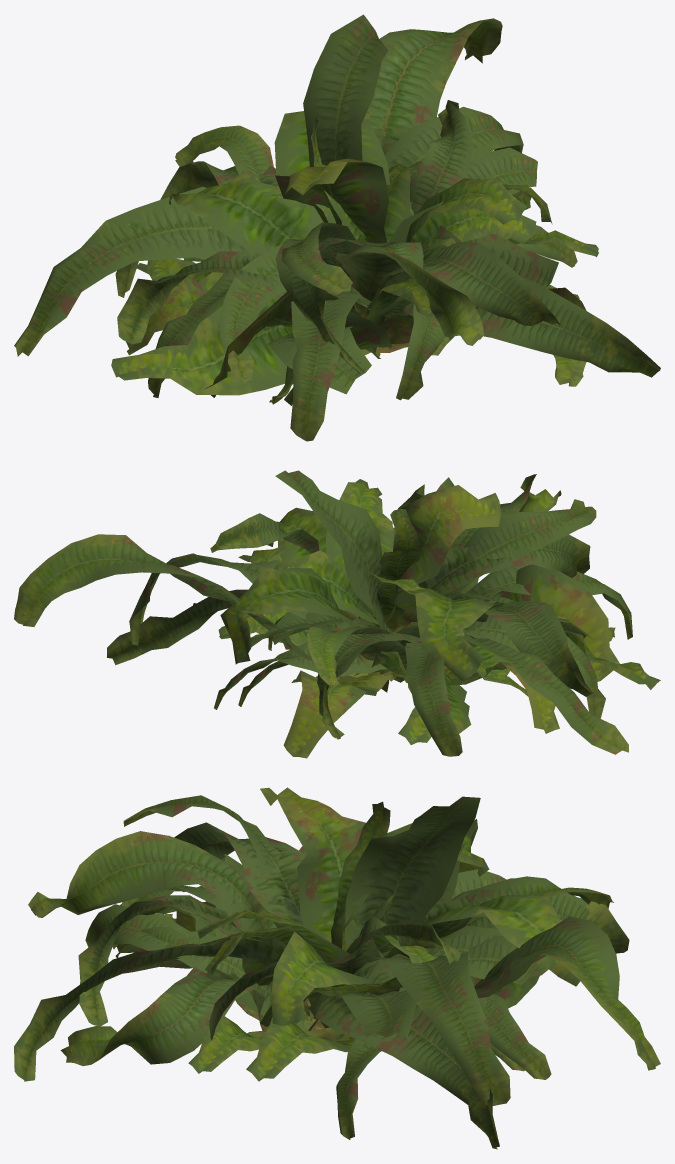
File: fern_02.glb
The picture shows the model from 3 angles, top to bottom: view 1: azimuth 30°, elevation 25°; view 2: azimuth 150°, elevation 25°; view 3: azimuth 270°, elevation 25°; orthographic projection. The views are drawn at different scales.
Visible parts, largest first — view 1: fern_02_b, fern_02_c, fern_02_d, fern_02_a; view 2: fern_02_b, fern_02_c, fern_02_a, fern_02_d; view 3: fern_02_b, fern_02_c, fern_02_a, fern_02_d.
Boxes of the visible parts, x1,y1,x2,y2 form: fern_02_b: (14,14,660,441); fern_02_c: (111,116,586,405); fern_02_d: (136,238,579,404); fern_02_a: (198,100,558,355); fern_02_b: (14,470,632,758); fern_02_c: (107,477,660,756); fern_02_a: (210,513,528,709); fern_02_d: (267,554,615,744); fern_02_b: (14,787,660,1139); fern_02_c: (60,795,613,1149); fern_02_a: (115,893,551,1079); fern_02_d: (127,901,407,1073).
Bounding box in the file's own units: 0.9897 × 0.4277 × 0.8937.
1 material, 1 textured.
